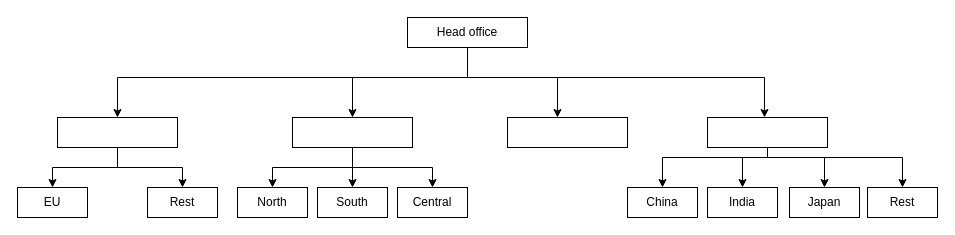
Image size: 955x235. Some labels were removed from this diagram. Each missing label, with the centre of its shape:
"Africa" goes at pixel 567 132.
"America" goes at pixel 352 132.
"Asia" goes at pixel 767 132.
"Europe" goes at pixel 117 132.
